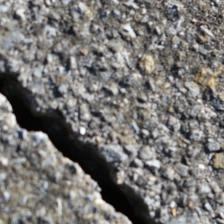Crack: (2, 34, 154, 187)
